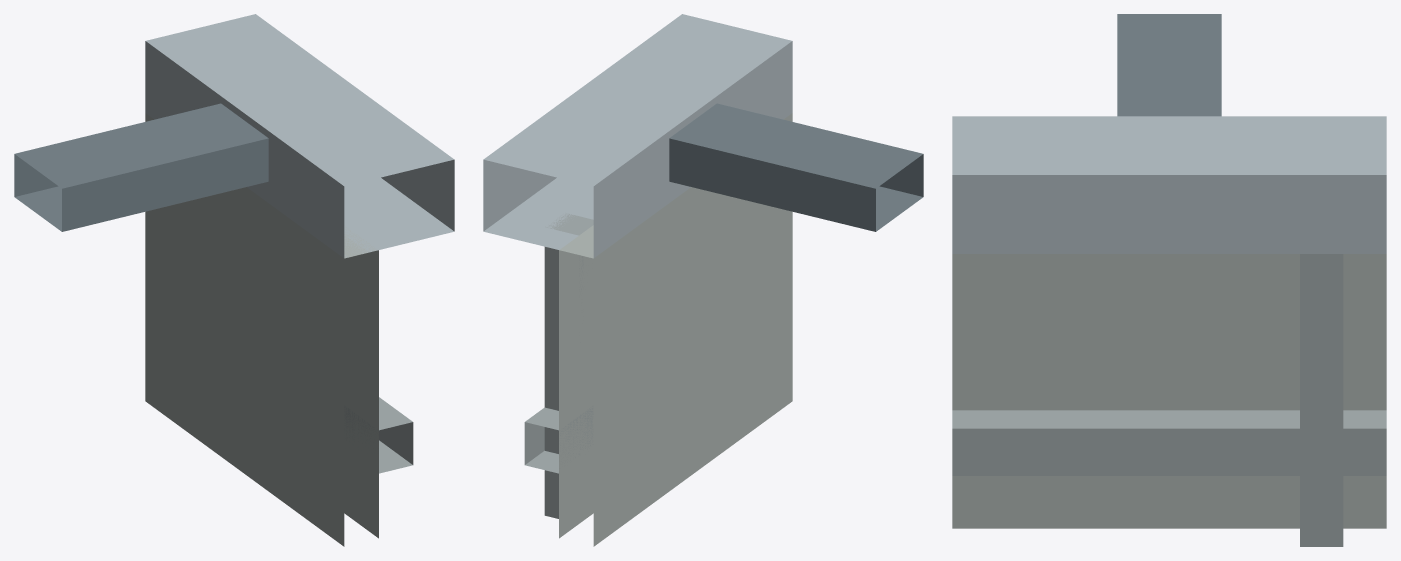
The model's file is cell_111.obj.
3 renders of one model, left to right at view 1: azimuth 30°, elevation 25°; view 2: azimuth 150°, elevation 25°; view 3: azimuth 270°, elevation 25°, orthographic. The views are drawn at different scales.
Bounding box in the file's own units: 0.92 × 1 × 1.
